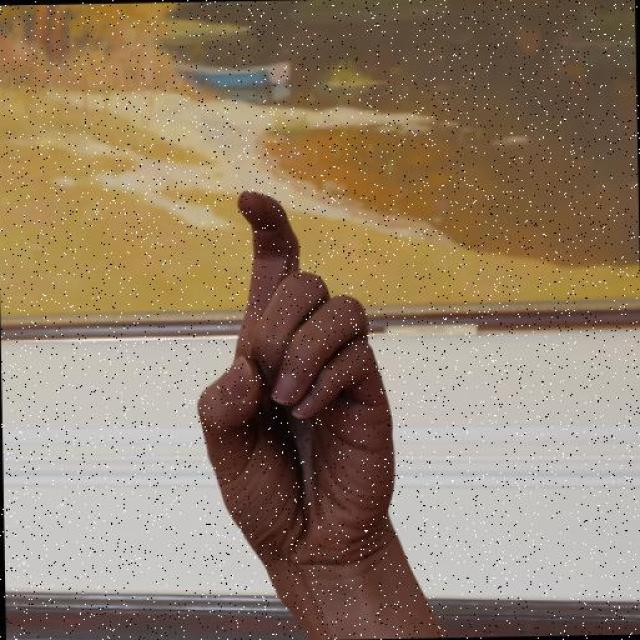X: (170, 182, 428, 637)
